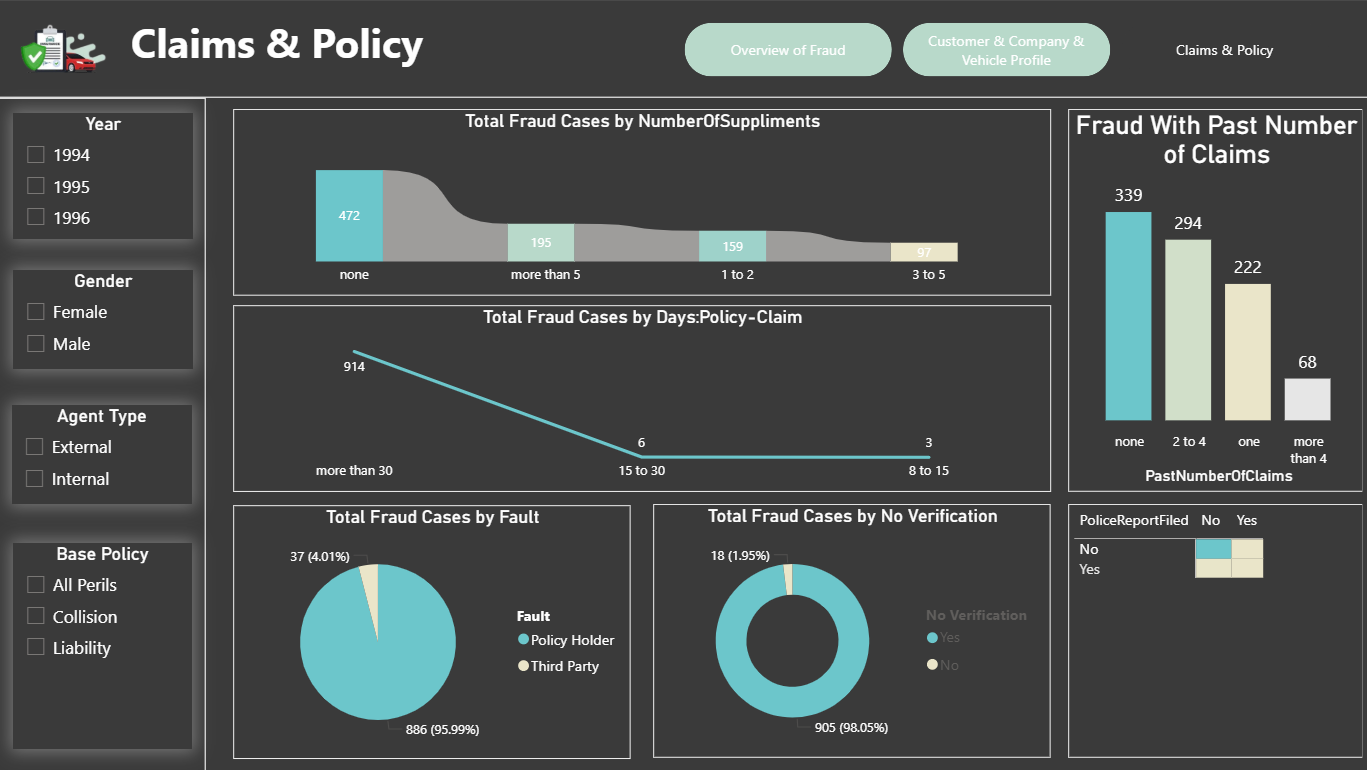

Layout of this report page (visuals, bound fields, positions):
{"tool":"powerbi","page":{"name":"Claims & Policy","canvas":[1280,720],"ordinal":2},"visuals":[{"type":"shape","box":[0,0,1280.2,91.9],"z":0},{"type":"shape","box":[0,91.9,194.2,627.9],"z":1000},{"type":"textbox","box":[119.8,10.5,480.2,74.4],"z":2000},{"type":"image","box":[0,2.3,119.8,89.5],"z":3000},{"type":"columnChart","title":"Fraud With Past Number of Claims","fields":{"Category":["Policy Dim.PastNumberOfClaims"],"Y":["Measure.Total Fraud Cases"]},"box":[996.5,102.3,274.4,355.8],"z":4000},{"type":"ribbonChart","fields":{"Category":["Claim Dim.NumberOfSuppliments"],"Y":["Measure.Total Fraud Cases"]},"box":[219.8,102.3,760.5,173.3],"z":5000},{"type":"pieChart","fields":{"Y":["'Measures'.Total Fraud Cases"],"Category":["Claim Dim.Fault"]},"box":[219.7,470.5,369.9,236.3],"z":6000},{"type":"donutChart","fields":{"Category":["Claim Dim.No Verification"],"Y":["Measure.Total Fraud Cases"]},"box":[610.5,469.8,369.8,236],"z":7000},{"type":"pivotTable","fields":{"Rows":["Claim Dim.PoliceReportFiled"],"Values":["Measure.Total Fraud Cases"],"Columns":["Claim Dim.WitnessPresent"]},"box":[996.5,469.8,274.4,236],"z":8000},{"type":"lineChart","fields":{"Y":["Measure.Total Fraud Cases"],"Category":["Policy Dim.Days:Policy-Claim"]},"box":[219.8,284.9,760.5,173.3],"z":9000},{"type":"pageNavigator","box":[639.5,22.1,600,50],"z":10000},{"type":"slicer","title":"Year","fields":{"Values":["Date Dim.Year"]},"box":[15.1,105.8,167.4,117.4],"z":11000},{"type":"slicer","title":"Gender","fields":{"Values":["Client Dim.Sex"]},"box":[15.1,252.3,167.4,91.9],"z":12000},{"type":"slicer","title":"Agent Type","fields":{"Values":["Company Dim.AgentType"]},"box":[14,377.9,167.4,91.9],"z":13000},{"type":"slicer","title":"Base Policy","fields":{"Values":["Policy Dim.BasePolicy"]},"box":[15.7,505.8,166.3,191.9],"z":14000}]}

Visuals, with their boxes in screenshot pixels (x1, y1, x2, y2), scaled from the page's 1280x720 canvas onto the 1367x770 screenshot:
shape: [0,0,1366,98]
shape: [0,98,207,769]
textbox: [128,11,641,91]
image: [0,2,128,98]
"Fraud With Past Number of Claims" columnChart: [1064,109,1357,490]
ribbonChart - Claim Dim.NumberOfSuppliments x Measure.Total Fraud Cases: [235,109,1047,295]
pieChart - 'Measures'.Total Fraud Cases x Claim Dim.Fault: [235,503,630,756]
donutChart - Claim Dim.No Verification x Measure.Total Fraud Cases: [652,502,1047,755]
pivotTable - Claim Dim.PoliceReportFiled x Measure.Total Fraud Cases: [1064,502,1357,755]
lineChart - Measure.Total Fraud Cases x Policy Dim.Days:Policy-Claim: [235,305,1047,490]
pageNavigator: [683,24,1324,77]
"Year" slicer: [16,113,195,239]
"Gender" slicer: [16,270,195,368]
"Agent Type" slicer: [15,404,194,502]
"Base Policy" slicer: [17,541,194,746]
